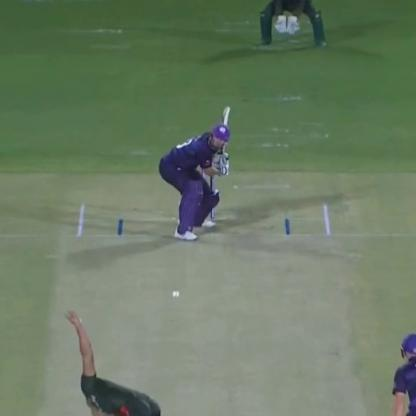ball: (47, 206, 348, 416)
bat: (211, 105, 238, 146)
pitch: (170, 286, 182, 298)
